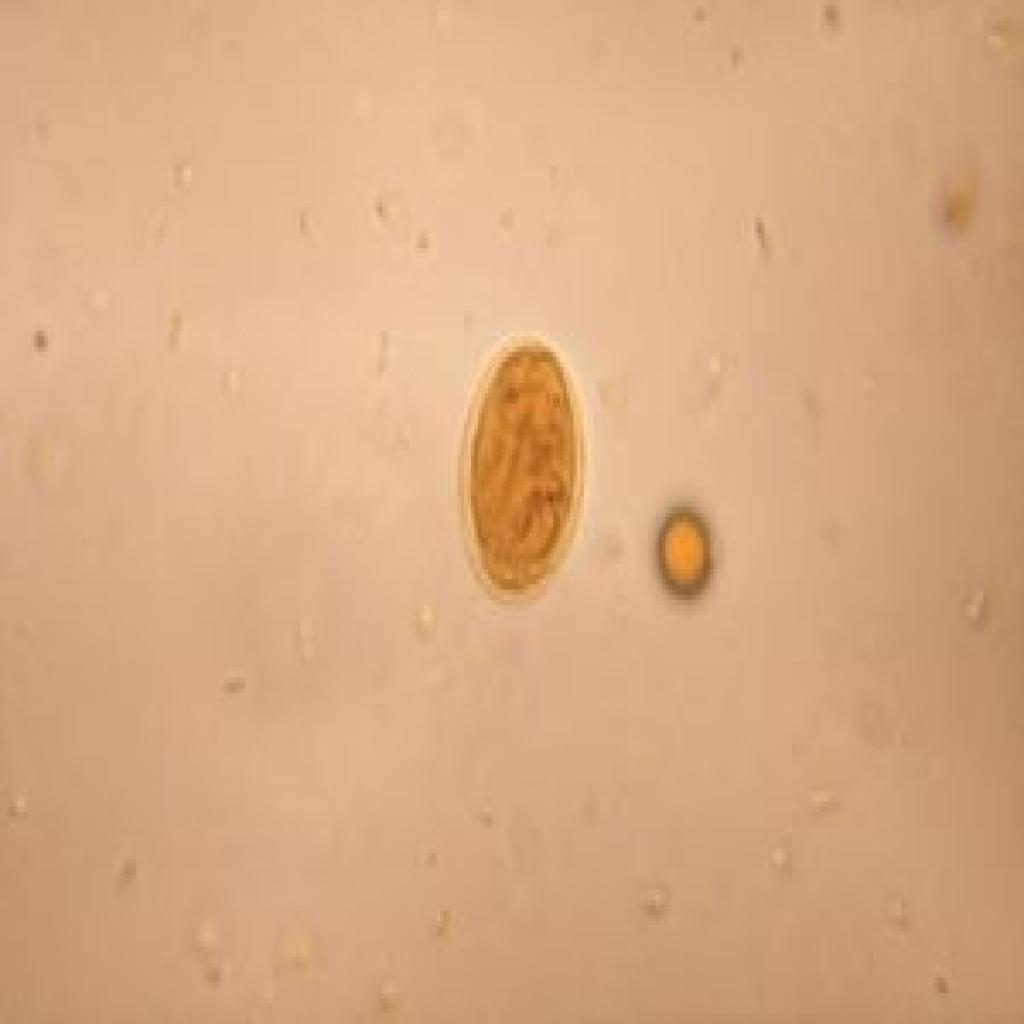Giardia: (454, 326, 594, 605)
